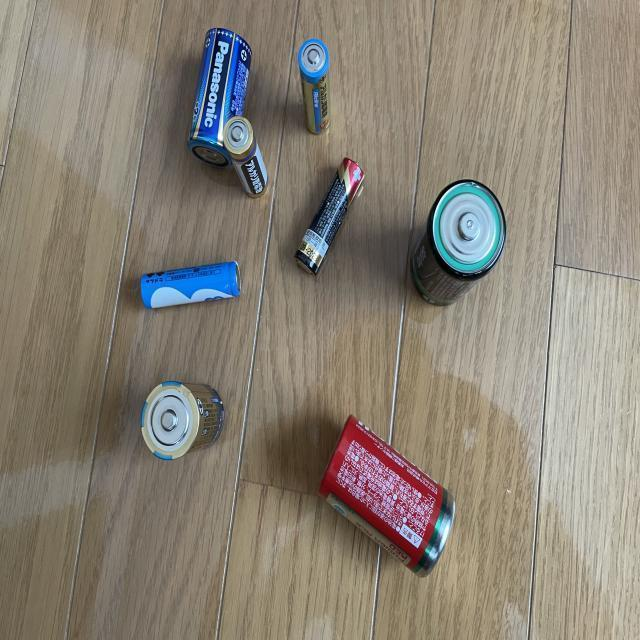Hazard: (313, 410, 457, 579), (406, 174, 509, 316), (183, 21, 254, 170), (289, 150, 369, 278), (138, 374, 230, 466), (134, 254, 246, 314), (220, 112, 272, 202), (294, 34, 332, 138)
